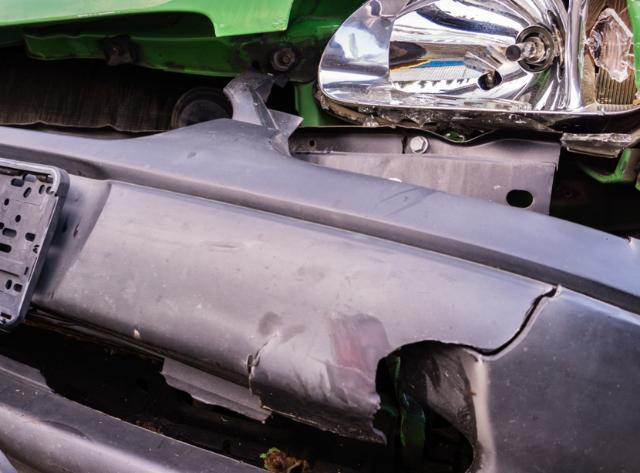Bumper: (25, 104, 640, 473)
Light: (311, 2, 640, 125)
